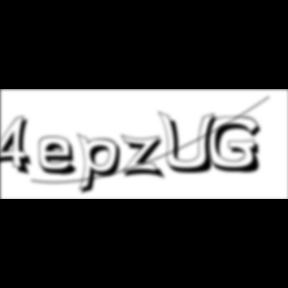4: (0, 115, 38, 179)
G: (208, 116, 268, 176)
U: (158, 110, 224, 176)
e: (38, 135, 84, 178)
p: (77, 132, 127, 198)
z: (120, 134, 170, 182)
